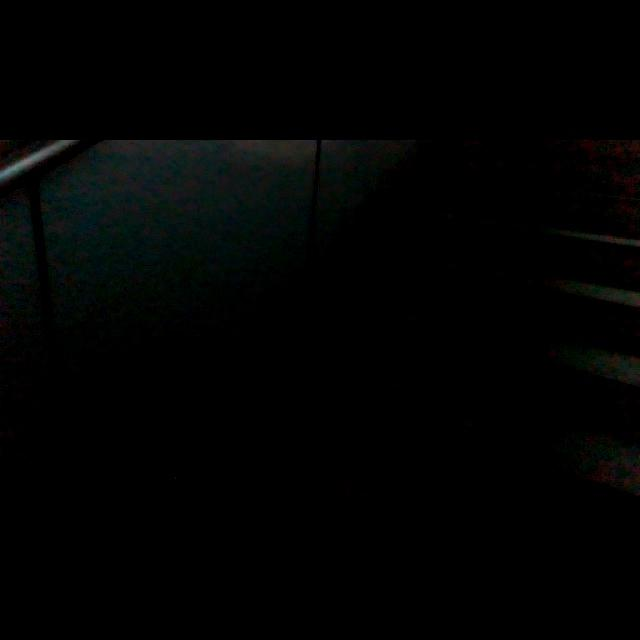stair: (190, 146, 640, 488)
